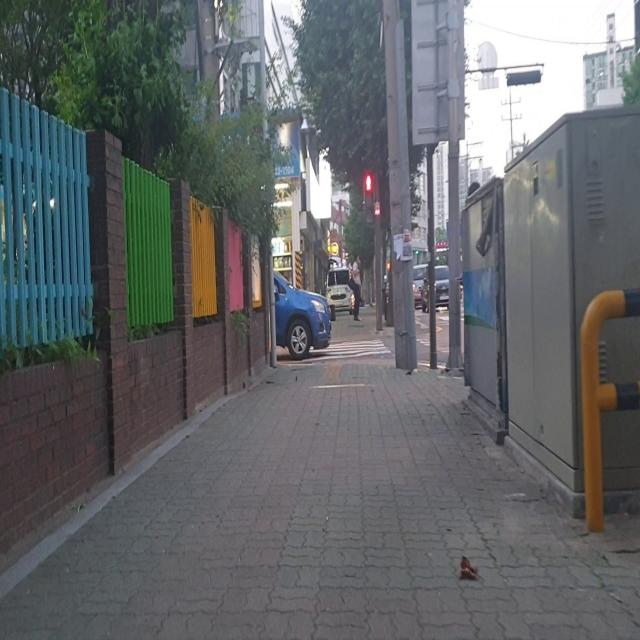횡단보도: (300, 337, 392, 362)
